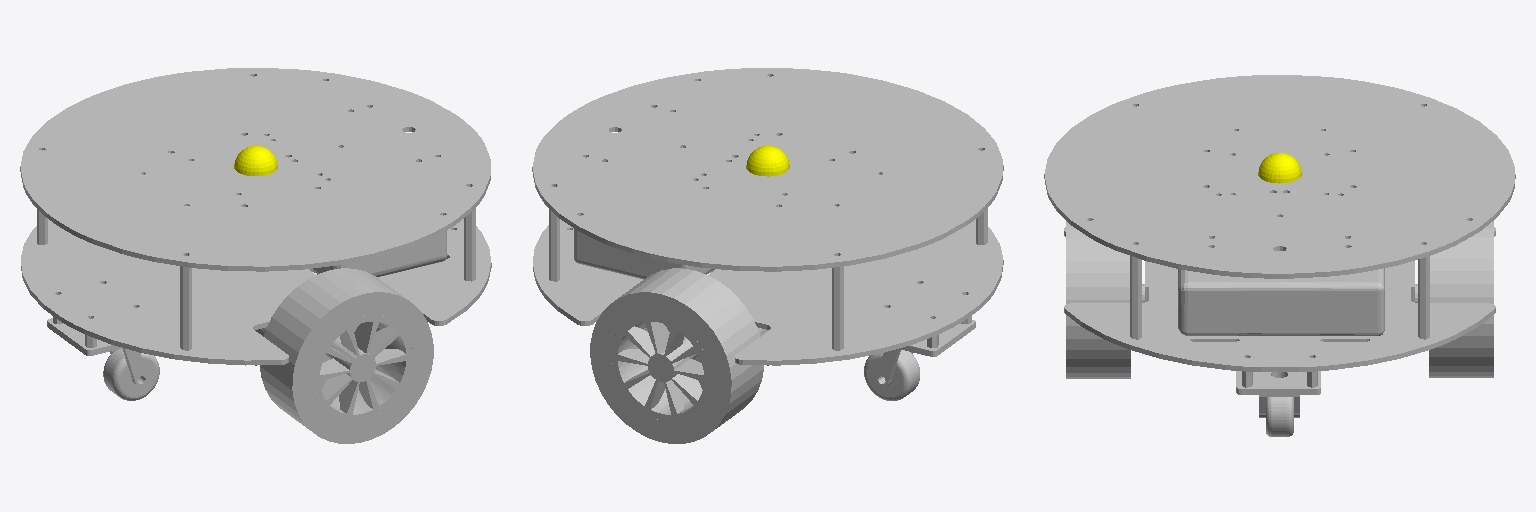
The robot description file, URDF, robot "xtark_robot":
<?xml version="1.0" encoding="utf-8"?>

<robot name="xtark_robot">

    <!-- 机器人底部中心原点 -->
    <link name="base_footprint">
        <visual>
            <geometry>
                <sphere radius="0.001" />
            </geometry>
        </visual>
    </link>

    <!-- 机器人底盘 -->
    <link name="base_link">
        <visual>
            <geometry>
                <mesh filename="package://xtark_description/meshes/base_r10_twd.stl" />
            </geometry>
            <origin xyz="0 0 0" rpy="0 0 0" />
            <material name="base_color">
                <color rgba="0.8 0.8 0.8 1" />
            </material>
        </visual>
    </link>    

        <!-- 机器人雷达 -->
    <link name="laser_link">
        <visual>
            <geometry>
                <mesh filename="package://xtark_description/meshes/laser.stl" />
            </geometry>
            <origin xyz="0 0 -0.06" rpy="0 0 0" />
            <material name="laser_color">
                <color rgba="0.4 0.4 0.4 1" />
            </material>
        </visual>
    </link> 

    <!-- 机器人摄像头 -->
    <link name="camera_link">
        <visual>
            <geometry>
                <mesh filename="package://xtark_description/meshes/depthcamera.stl" />
            </geometry>
            <origin xyz="-0.037 0 0" rpy="0 0 0" />
            <material name="camera_color">
                <color rgba="0.15 0.15 0.15 1" />
            </material>
        </visual>
    </link>

    <!-- 机器人IMU传感器 -->
    <link name="imu_link">
        <visual>
            <geometry>
                <sphere radius="0.010" />
            </geometry>
            <origin xyz="0 0 0" rpy="0 0 0" />
            <material name="imu_color">
                <color rgba="1 1 0 1" />
            </material>
        </visual>
    </link>

    <!-- 底盘与原点连接的关节 -->
    <joint name="baselink2footprint" type="fixed">
        <origin xyz="0 0 0.0994" rpy="0 0 0"/>
        <parent link="base_footprint" />
        <child  link="base_link" />
    </joint>

    <!-- 雷达到与底盘连接的关节 -->
    <joint name="laser2base" type="fixed">
        <origin xyz="0 0 0.06" rpy="0 0 0"/>
        <parent link="base_link" />
        <child  link="laser_link" />
    </joint>

    <!-- 深度摄像头与底盘连接的关节 -->
    <joint name="camera2base" type="fixed">
        <origin xyz="0.089 0 0.0285" rpy="0 0 0"/>
        <parent link="base_link" />
        <child  link="camera_link" />
    </joint>

    <!-- IMU传感器与底盘连接的关节 -->
    <joint name="imu2base" type="fixed">
        <origin xyz="0 0 0" rpy="0 0 0"/>
        <parent link="base_link" />
        <child  link="imu_link" />
    </joint>

</robot>

--- What the picture shows (computed from the rendered views, not written in the file) ---
Views: 3 orthographic renders of the robot side by side, from view 1: azimuth 30°, elevation 25°; view 2: azimuth 150°, elevation 25°; view 3: azimuth 270°, elevation 25°.
Model xtark_robot with 5 links and 4 joints (4 fixed), rooted at base_footprint, posed every joint at zero.
Visible links, largest first — view 1: base_link, imu_link; view 2: base_link, imu_link; view 3: base_link, imu_link.
Link boxes in pixels (x1=…): base_link: x1=20, y1=68, x2=491, y2=443; imu_link: x1=234, y1=145, x2=277, y2=175; base_link: x1=532, y1=68, x2=1003, y2=443; imu_link: x1=746, y1=146, x2=789, y2=176; base_link: x1=1044, y1=75, x2=1515, y2=436; imu_link: x1=1258, y1=153, x2=1301, y2=183.
Bounding box of the posed robot: 0.2159 × 0.216 × 0.111 m (x, y, z).
Meshes: 3 distinct files referenced, 1 mesh visuals loaded (1 binary STL); not drawn: 2 (reference not matched to a file when rendering).
